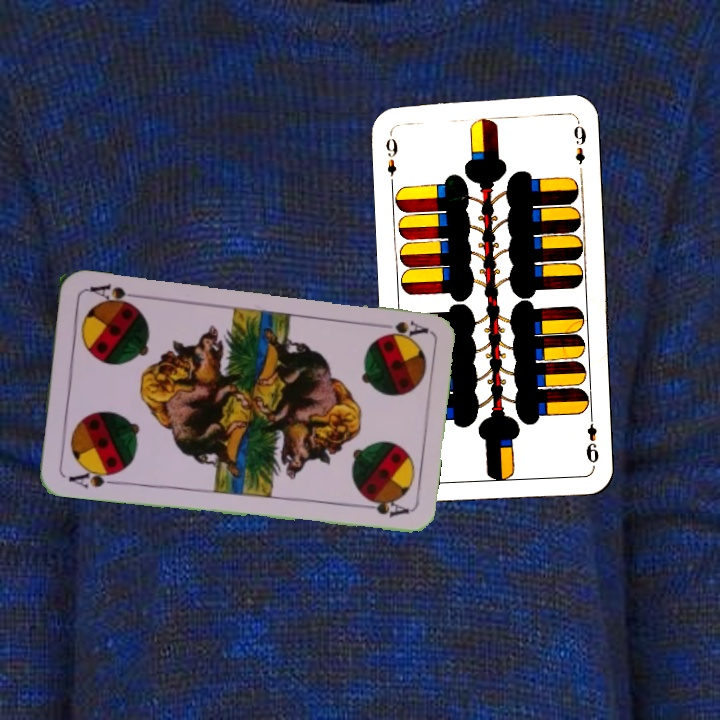E9: (381, 128, 400, 187), (582, 409, 602, 465)
SA: (64, 463, 122, 491), (371, 316, 430, 341)
